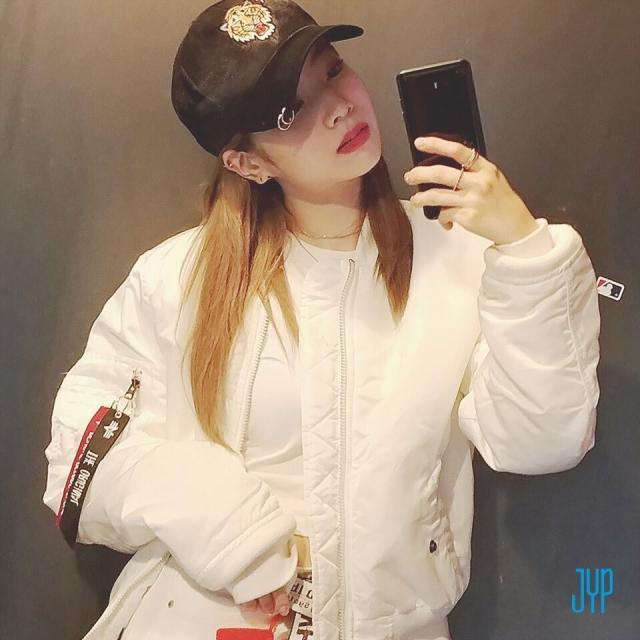phone: (396, 58, 490, 220)
